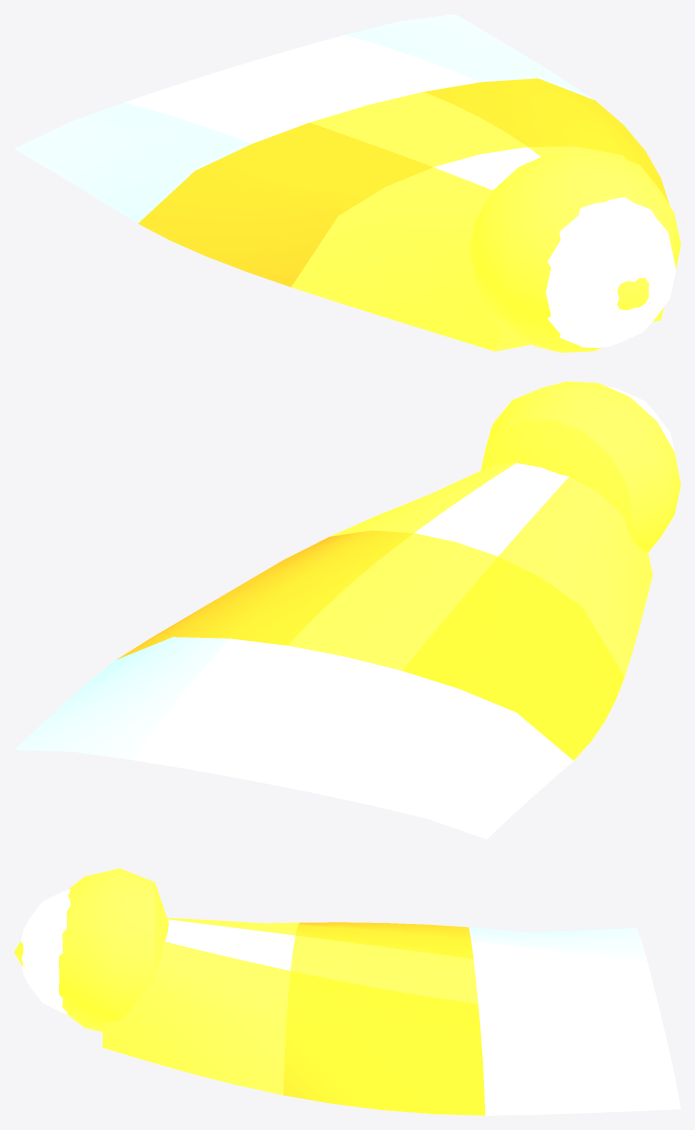
Rendered from sungrazer.glb.
3 views of the same model, one above another, from view 1: azimuth 30°, elevation 25°; view 2: azimuth 150°, elevation 25°; view 3: azimuth 270°, elevation 25° (orthographic). The views are drawn at different scales.
Visible parts, largest first — view 1: body; view 2: body; view 3: body.
Boxes of the visible parts, x1,y1,x2,y2 form: body: (14, 14, 680, 352); body: (14, 381, 680, 839); body: (14, 868, 680, 1115).
Bounding box in the file's own units: 136 × 51 × 204.
